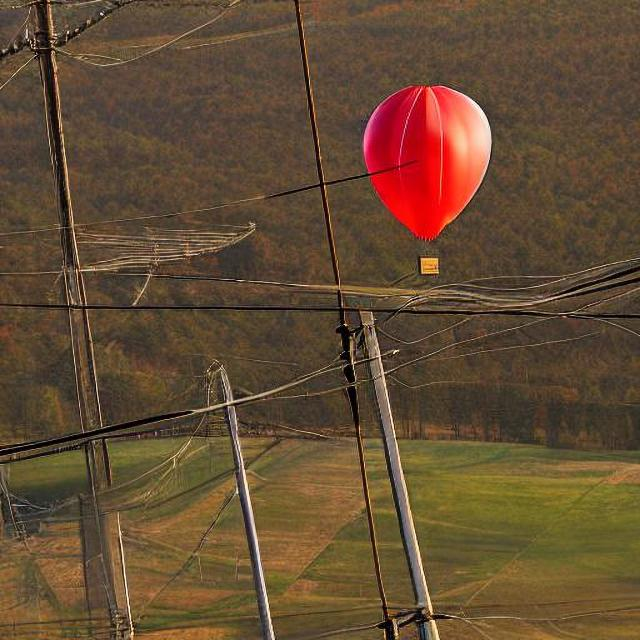balloon: (354, 81, 491, 238)
floating object: (355, 82, 492, 238)
